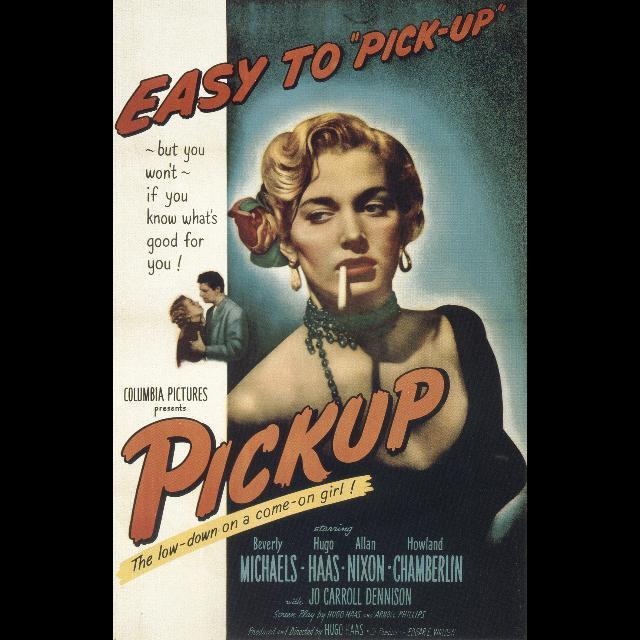rokok: (336, 264, 352, 312)
